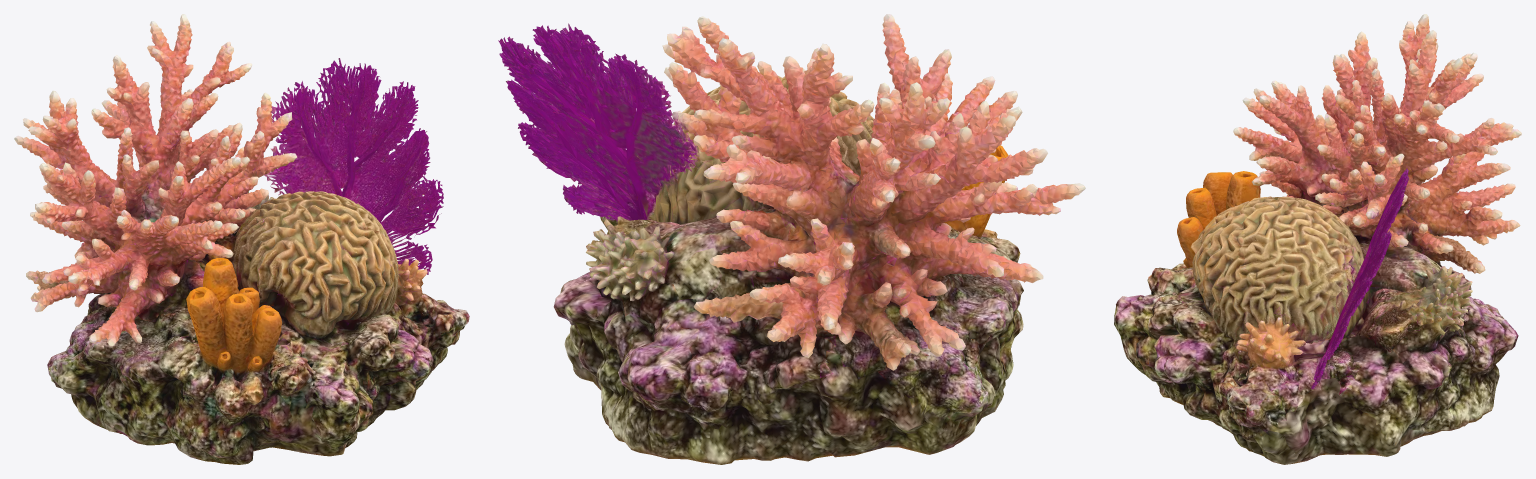
File: SM_Coral_Cluster.glb
The picture shows the model from 3 angles, left to right: view 1: azimuth 30°, elevation 25°; view 2: azimuth 150°, elevation 25°; view 3: azimuth 270°, elevation 25°; orthographic projection. The views are drawn at different scales.
Parts seen in each view (by area): view 1: Mesh_0; view 2: Mesh_0; view 3: Mesh_0.
Boxes of the visible parts, box(x1,y1,x2,y2) form: Mesh_0: box(14, 14, 469, 464); Mesh_0: box(498, 14, 1085, 464); Mesh_0: box(1114, 14, 1521, 464).
Size of the model in its own units: 1.9 by 1.49 by 1.64.
Materials: 1 (1 with a texture image).
